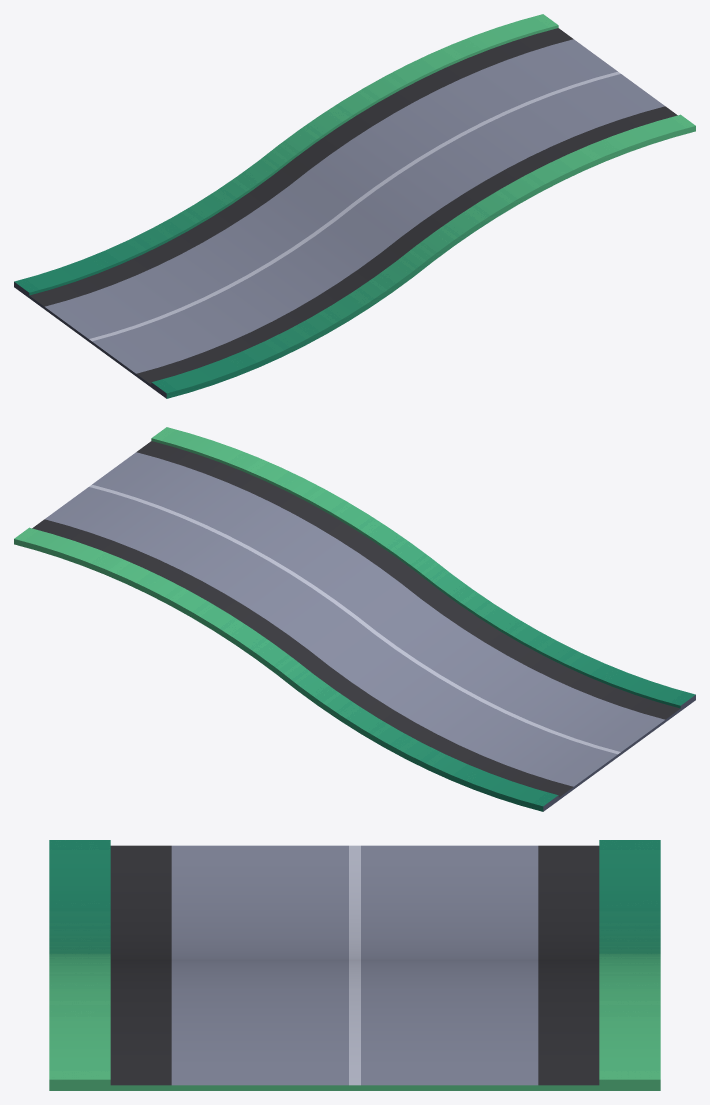
File: road_slant_flat_curve.glb
The picture shows the model from 3 angles, top to bottom: view 1: azimuth 30°, elevation 25°; view 2: azimuth 150°, elevation 25°; view 3: azimuth 270°, elevation 25°; orthographic projection. The views are drawn at different scales.
Visible parts, largest first — view 1: road-slant-flat-curve; view 2: road-slant-flat-curve; view 3: road-slant-flat-curve.
Boxes of the visible parts, x1=… form: road-slant-flat-curve: x1=14, y1=14, x2=695, y2=398; road-slant-flat-curve: x1=14, y1=427, x2=695, y2=811; road-slant-flat-curve: x1=49, y1=840, x2=660, y2=1090.
Size of the model in its own units: 2 by 0.52 by 1.
1 material, 1 textured.
